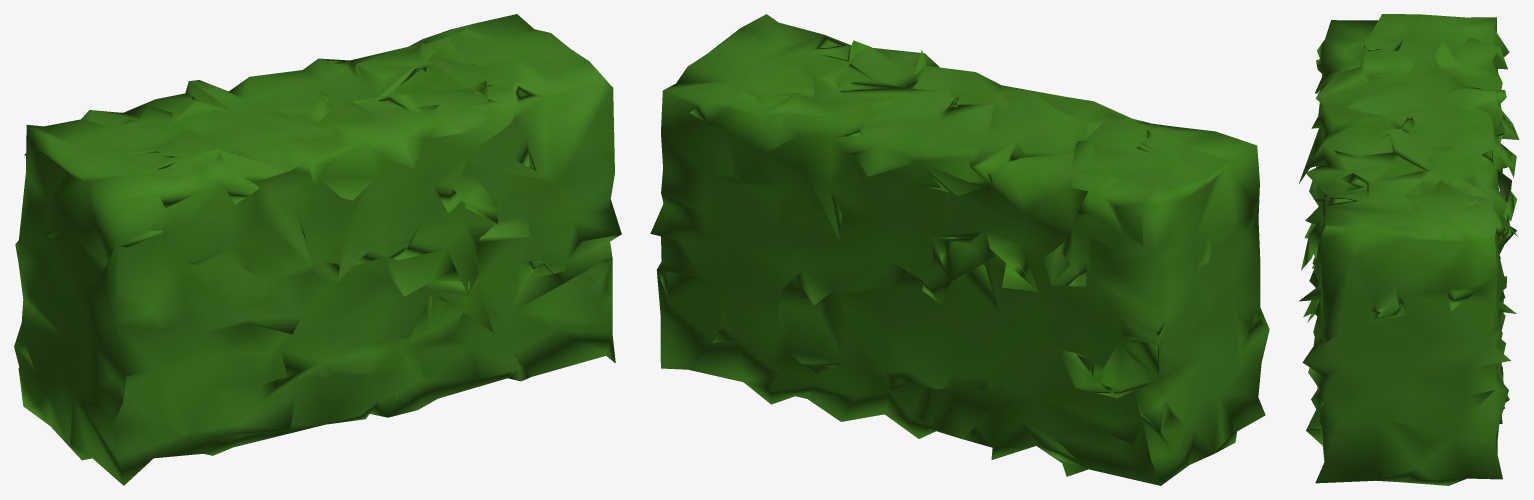
Rendered from hedge-short.glb.
3 views of the same model, side by side, from view 1: azimuth 30°, elevation 25°; view 2: azimuth 150°, elevation 25°; view 3: azimuth 270°, elevation 25° (orthographic). The views are drawn at different scales.
Visible parts, largest first — view 1: tripo_node_95f4d84b-14d7-4110-89e5-b5d6f3036e12; view 2: tripo_node_95f4d84b-14d7-4110-89e5-b5d6f3036e12; view 3: tripo_node_95f4d84b-14d7-4110-89e5-b5d6f3036e12.
Boxes of the visible parts, x1,y1,x2,y2 form: tripo_node_95f4d84b-14d7-4110-89e5-b5d6f3036e12: (14, 14, 621, 485); tripo_node_95f4d84b-14d7-4110-89e5-b5d6f3036e12: (650, 14, 1269, 485); tripo_node_95f4d84b-14d7-4110-89e5-b5d6f3036e12: (1299, 14, 1519, 485).
Bounding box in the file's own units: 0.997 × 0.5768 × 0.4115.
1 material, 1 textured.
